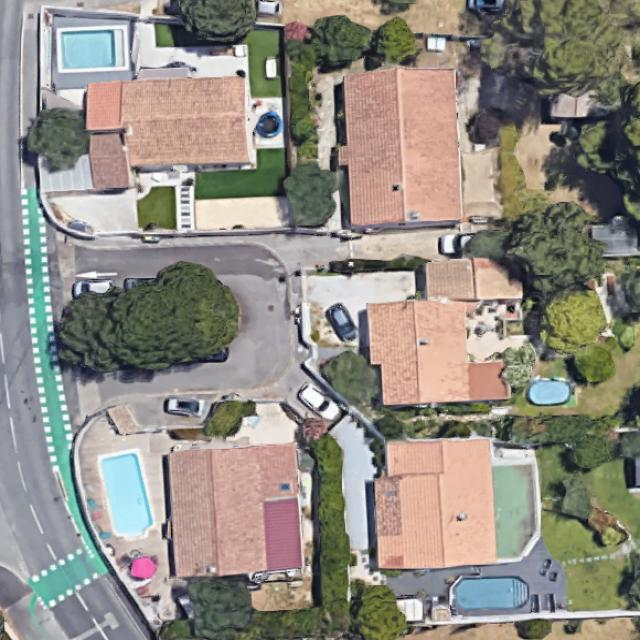maison: (333, 64, 463, 230), (82, 68, 253, 191), (169, 443, 300, 577), (373, 437, 496, 570), (365, 296, 508, 405), (426, 258, 522, 303)
